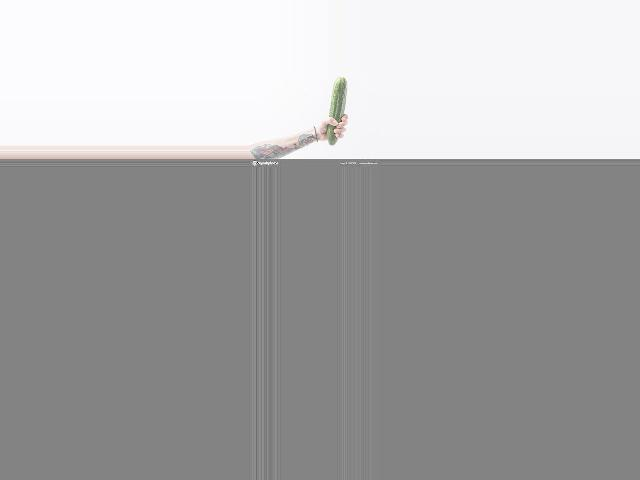cucumber: (327, 76, 347, 145)
